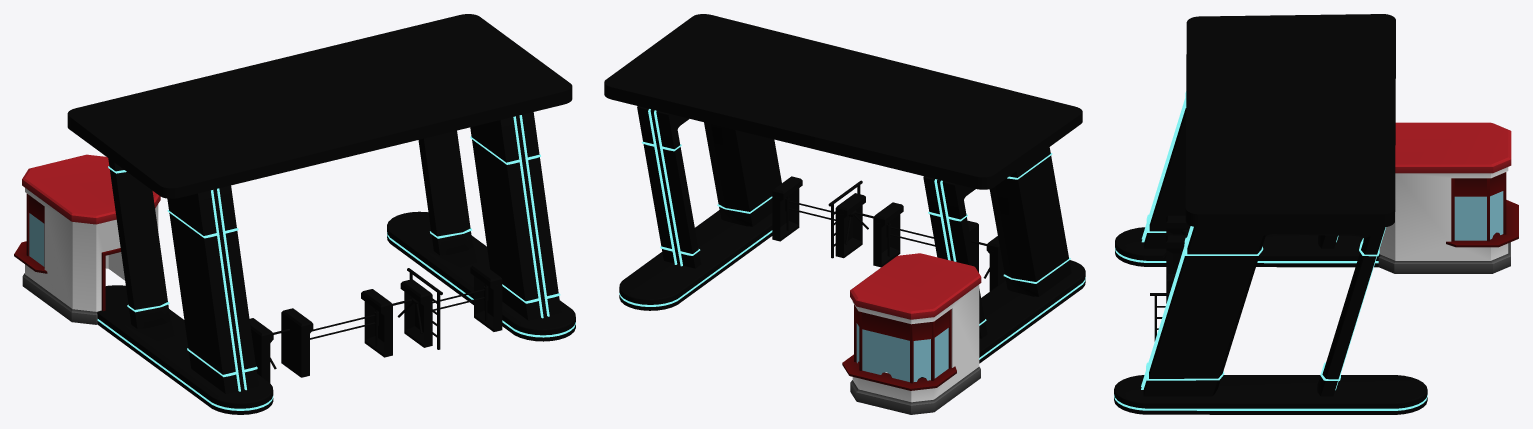
File: Main Gate 1.fbx
The picture shows the model from 3 angles, left to right: view 1: azimuth 30°, elevation 25°; view 2: azimuth 150°, elevation 25°; view 3: azimuth 270°, elevation 25°; orthographic projection. The views are drawn at different scales.
Visible parts, largest first — view 1: HRI_MainGate1; view 2: HRI_MainGate1; view 3: HRI_MainGate1.
Part boxes in pixels (left/top/right/bottom): HRI_MainGate1: left=14, top=14, right=575, bottom=414; HRI_MainGate1: left=604, top=14, right=1085, bottom=414; HRI_MainGate1: left=1114, top=14, right=1518, bottom=414.
Size of the model in its own units: 13.48 by 6.68 by 11.49.
